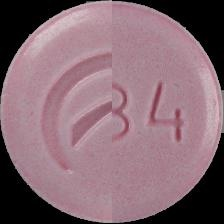68788-2634: (0, 0, 224, 224)
